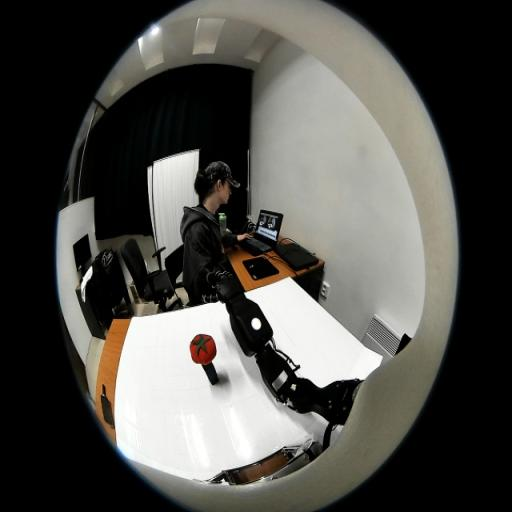RightHand: (219, 278, 239, 295)
Tomato: (190, 334, 216, 364)
